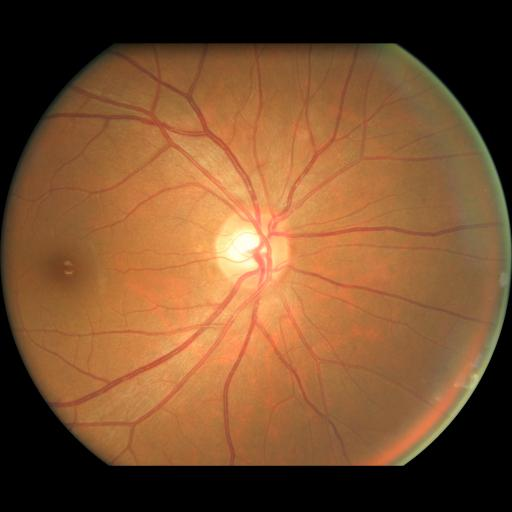Optic Cup: (229, 229, 274, 270)
Optic Disc: (217, 209, 289, 290)
